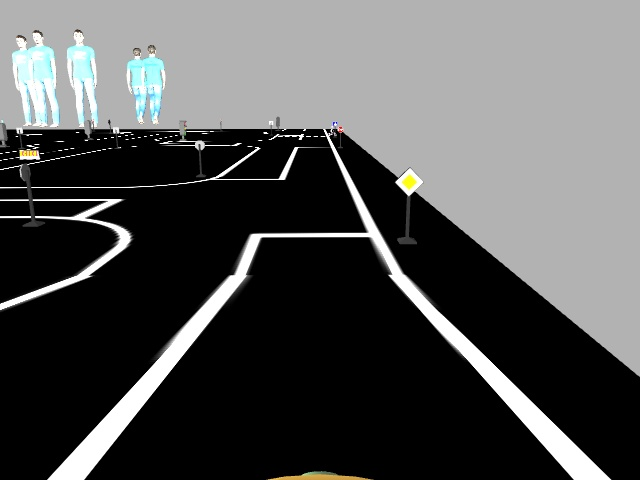Priority: (391, 165, 425, 196)
